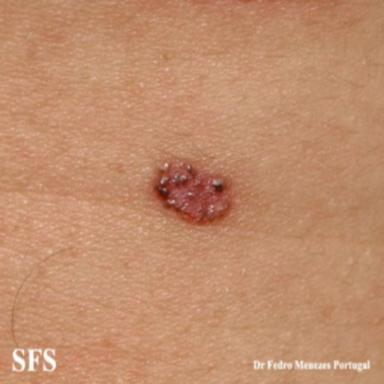basal-cell-carcinoma: (151, 159, 233, 224)
